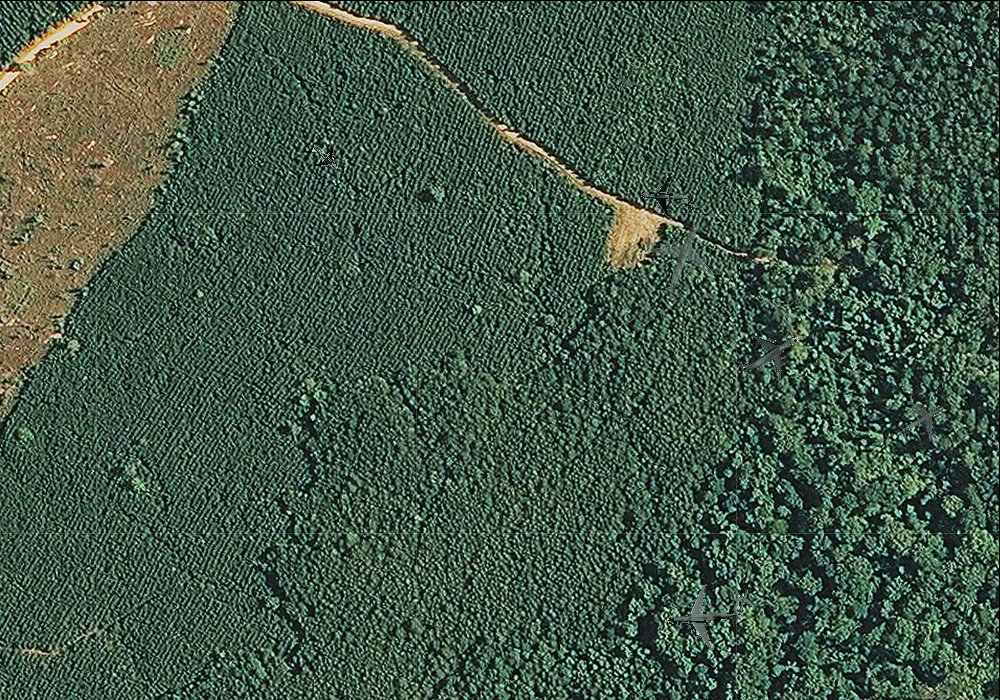plane: (634, 210, 732, 310), (721, 308, 813, 398), (663, 576, 746, 656), (888, 386, 955, 452), (637, 172, 695, 224), (300, 134, 348, 182), (606, 57, 647, 99), (726, 585, 760, 620)
